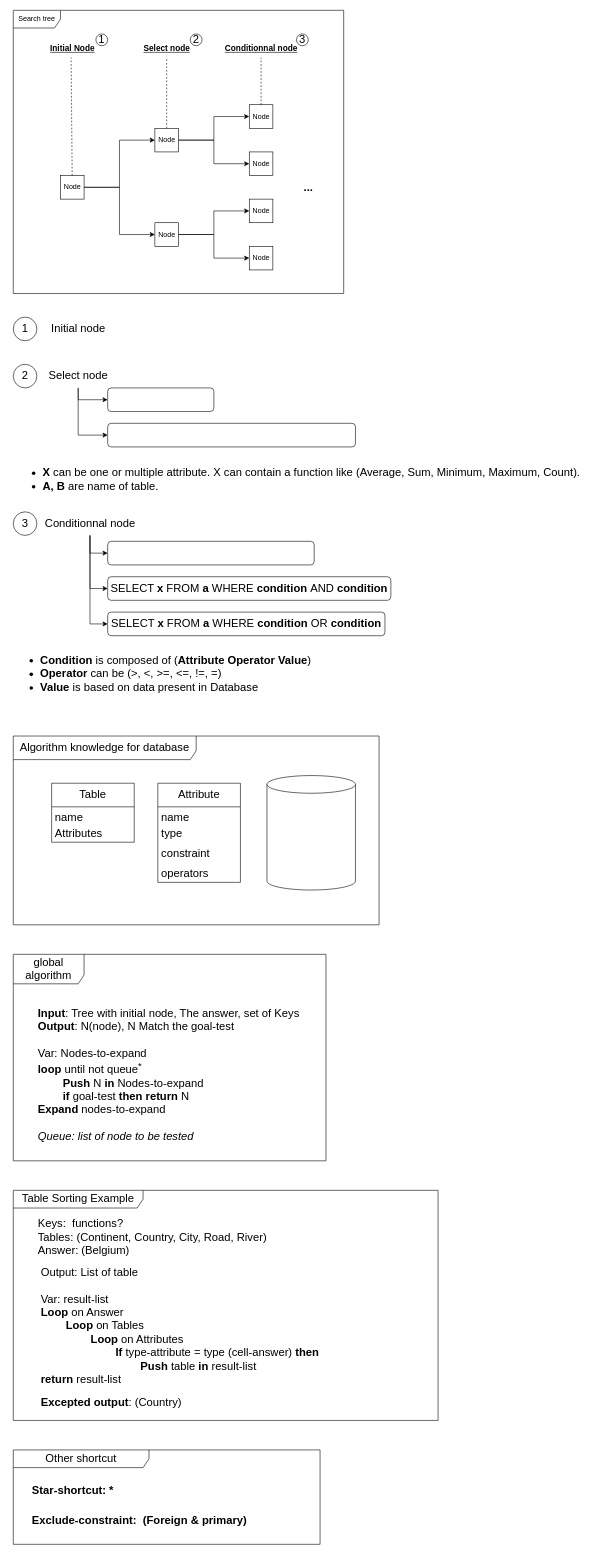
Image size: 595x1555. Some labels were removed from this diagram. Here are the shapes that lost their labels. From the top down, the centre of each, then its label:
At point (160, 399): "SELECT x FROM a".
At point (231, 435): "SELECT x FROM a INNER JOIN b on a.x = b.x".
At point (210, 553): "SELECT x FROM a WHERE condition".
At point (310, 832): "Data".
